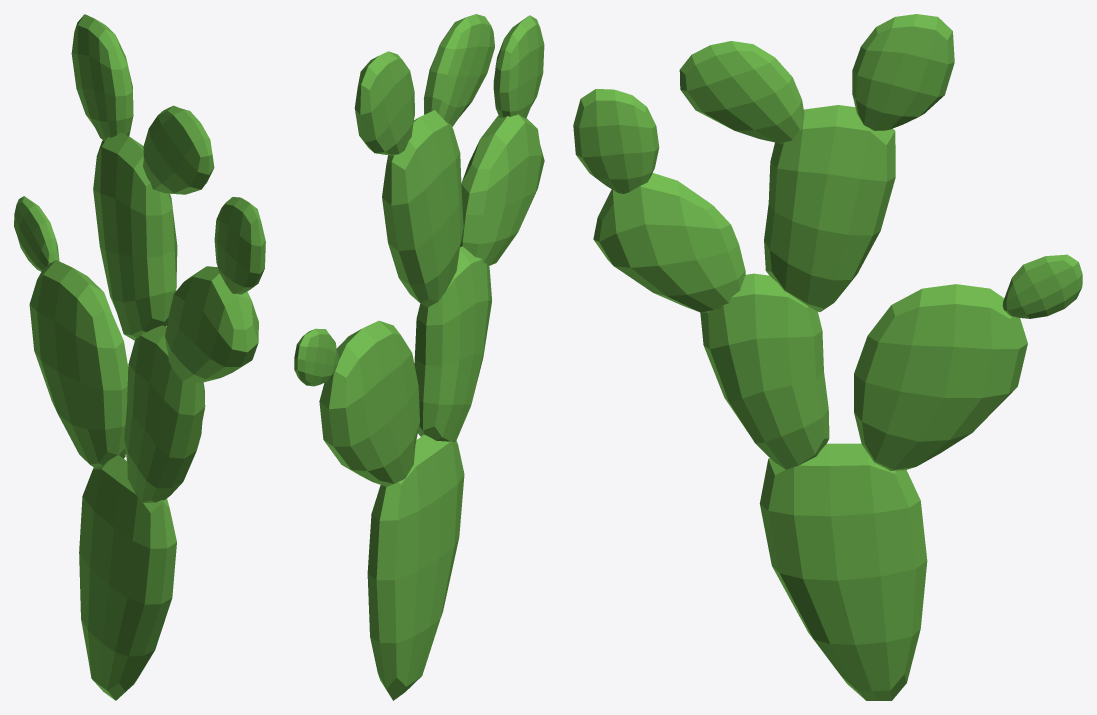
File: nature-cactus-4.glb
3 views of the same model, side by side, from view 1: azimuth 30°, elevation 25°; view 2: azimuth 150°, elevation 25°; view 3: azimuth 270°, elevation 25° (orthographic). The views are drawn at different scales.
Visible parts, largest first — view 1: Cactus_4; view 2: Cactus_4; view 3: Cactus_4.
Part boxes in pixels (box(x1,y1,x2,y2)): Cactus_4: box(14, 14, 265, 700); Cactus_4: box(294, 14, 544, 700); Cactus_4: box(573, 14, 1082, 700).
Bounding box in the file's own units: 11 × 137 × 91.9.
